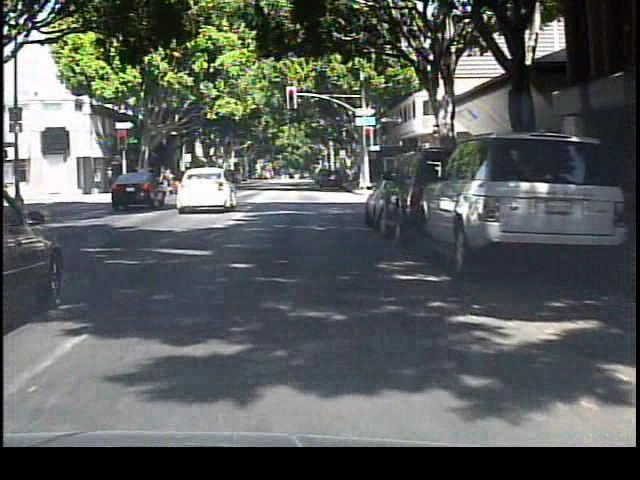person: (162, 163, 179, 203)
